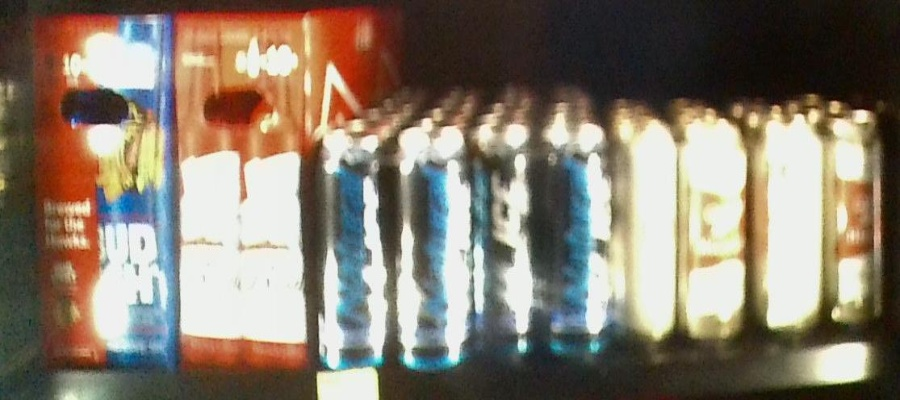bottle: (31, 12, 177, 375), (177, 8, 314, 375), (320, 129, 469, 370), (614, 122, 750, 355), (473, 128, 612, 354), (756, 117, 885, 327)
